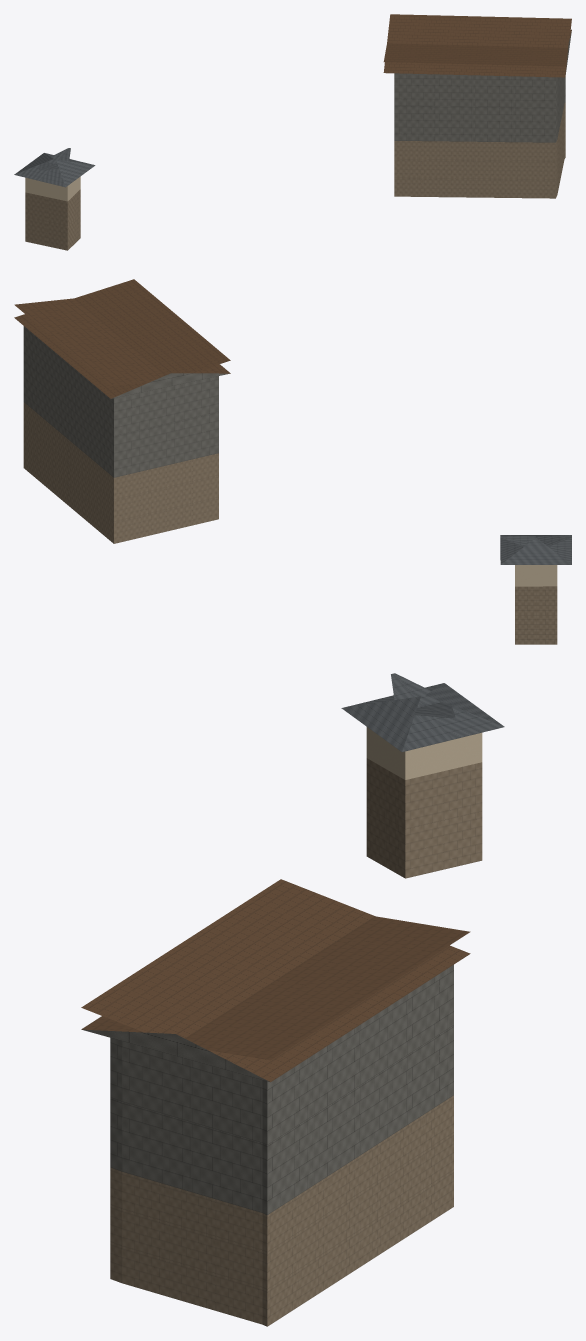
The model's file is bld_c44_33_250.gltf.
3 renders of one model, top to bottom at view 1: azimuth 30°, elevation 25°; view 2: azimuth 150°, elevation 25°; view 3: azimuth 270°, elevation 25°, orthographic. The views are drawn at different scales.
Visible parts, largest first — view 1: bld_c44_33_250; view 2: bld_c44_33_250; view 3: bld_c44_33_250.
Boxes of the visible parts, x1=… form: bld_c44_33_250: x1=14, y1=14, x2=571, y2=250; bld_c44_33_250: x1=14, y1=279, x2=571, y2=644; bld_c44_33_250: x1=81, y1=673, x2=504, y2=1326.
Bounding box in the file's own units: 49.22 × 12.5 × 17.56.
Materials: 6 (6 with a texture image).
